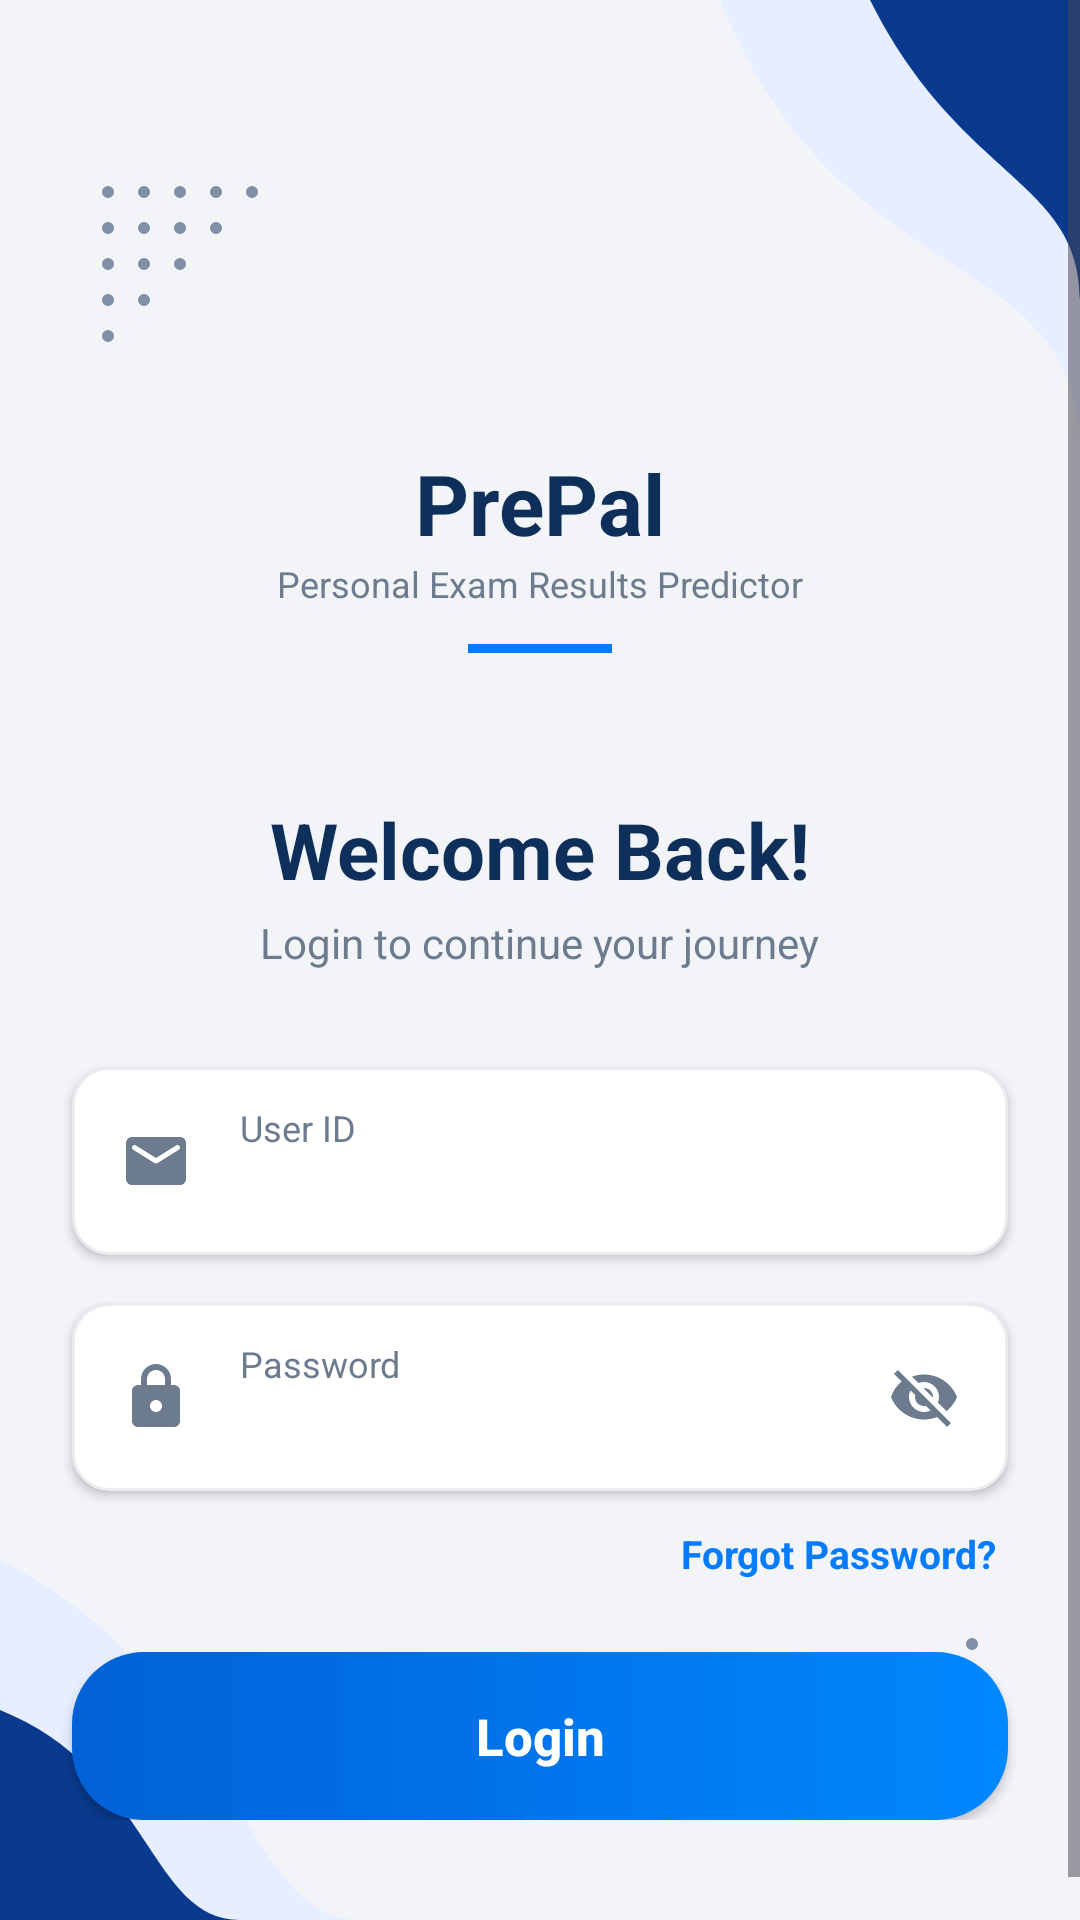

Icon click points for this 1080 × 1920 phone screenshot, format (x=x, y=y):
email: (x=156, y=1161)
eye off: (x=924, y=1398)
